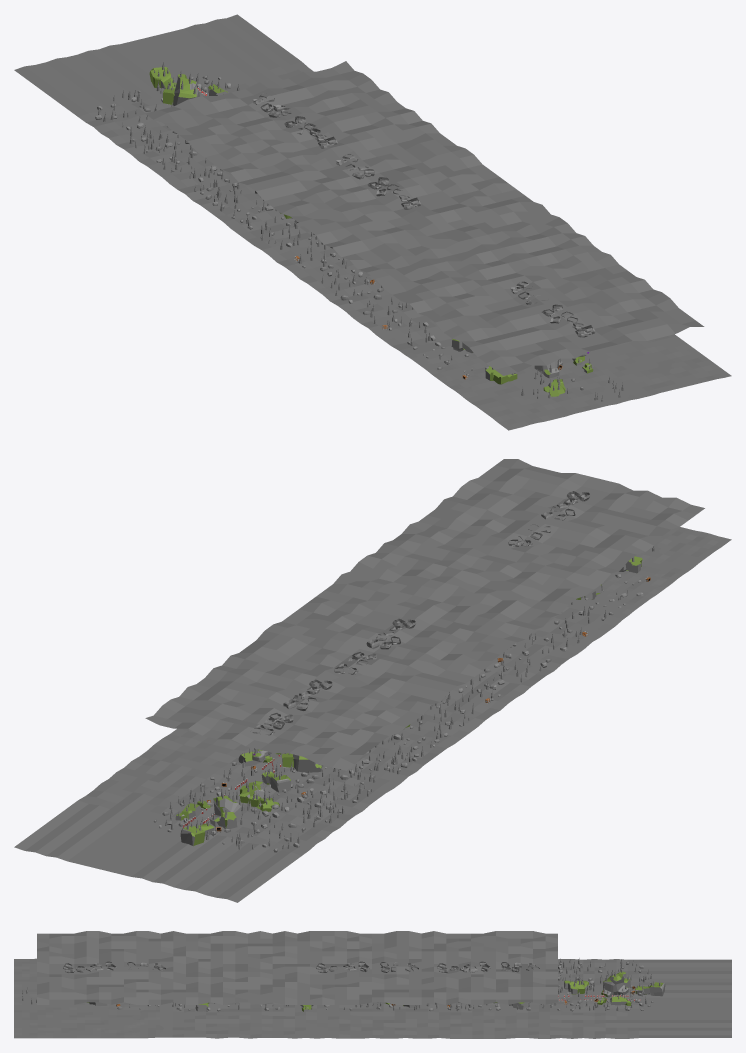
Rendered from Decor lvl6.fbx.
The picture shows the model from 3 angles, top to bottom: view 1: azimuth 30°, elevation 25°; view 2: azimuth 150°, elevation 25°; view 3: azimuth 270°, elevation 25°; orthographic projection. The views are drawn at different scales.
Parts seen in each view (by area): view 1: Ground, Mountain, Stalagnite, Rocks; view 2: Ground, Mountain, Stalagnite, Rocks; view 3: Ground, Mountain, Stalagnite, Rocks.
Boxes of the visible parts, x1,y1,x2,y2 form: Ground: (14, 14, 731, 430); Mountain: (149, 62, 595, 396); Stalagnite: (98, 73, 624, 401); Rocks: (95, 75, 583, 390); Ground: (14, 459, 731, 902); Mountain: (175, 491, 642, 846); Stalagnite: (165, 546, 654, 849); Rocks: (154, 573, 643, 852); Ground: (14, 931, 731, 1038); Mountain: (63, 961, 665, 1011); Stalagnite: (22, 958, 651, 1011); Rocks: (117, 961, 653, 1011).
Bounding box in the file's own units: 20036 × 5018 × 76619.
